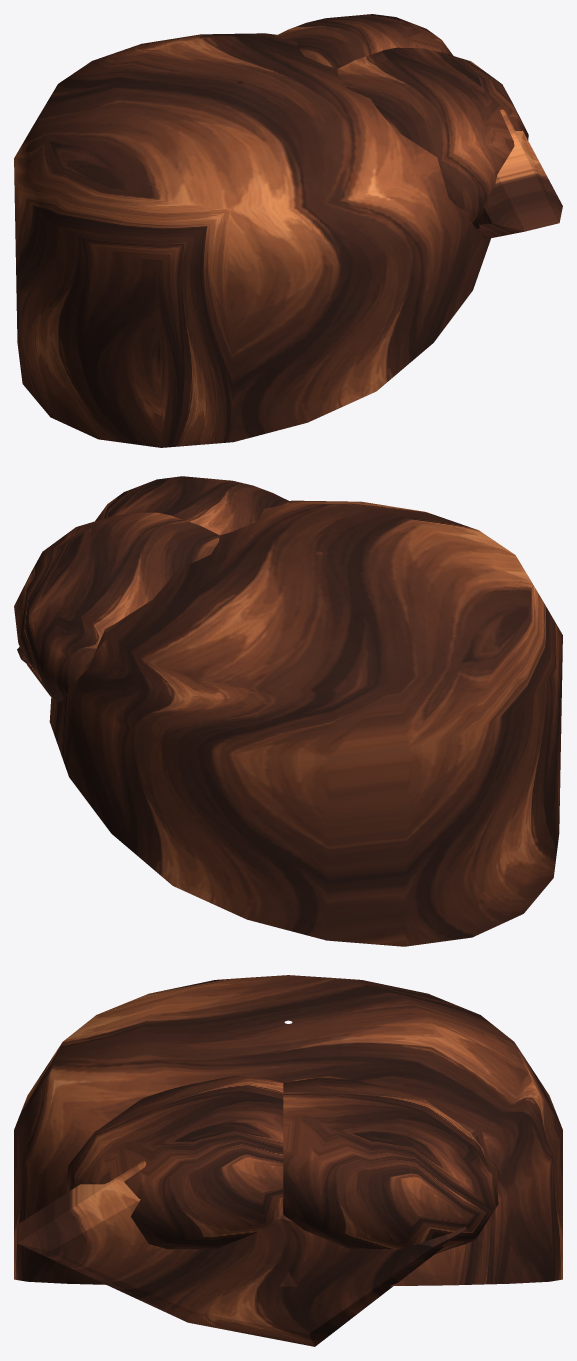
File: hair.glb
The picture shows the model from 3 angles, top to bottom: view 1: azimuth 30°, elevation 25°; view 2: azimuth 150°, elevation 25°; view 3: azimuth 270°, elevation 25°; orthographic projection. The views are drawn at different scales.
Parts seen in each view (by area): view 1: head; view 2: head; view 3: head.
Part boxes in pixels (box(x1,y1,x2,y2)): head: box(14, 14, 562, 447); head: box(14, 476, 562, 946); head: box(14, 975, 562, 1346).
Size of the model in its own units: 0.3761 by 0.2447 by 0.3723.
1 material, 1 textured.
